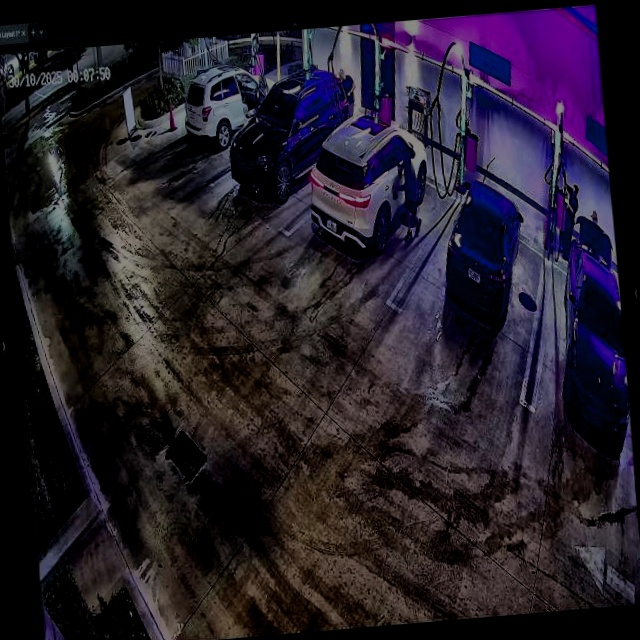Car: (302, 111, 436, 263), (226, 67, 357, 203), (437, 179, 531, 328), (181, 60, 282, 149)
